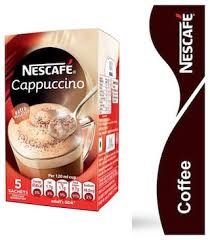nescafe-cappe-med: (4, 28, 124, 207)
